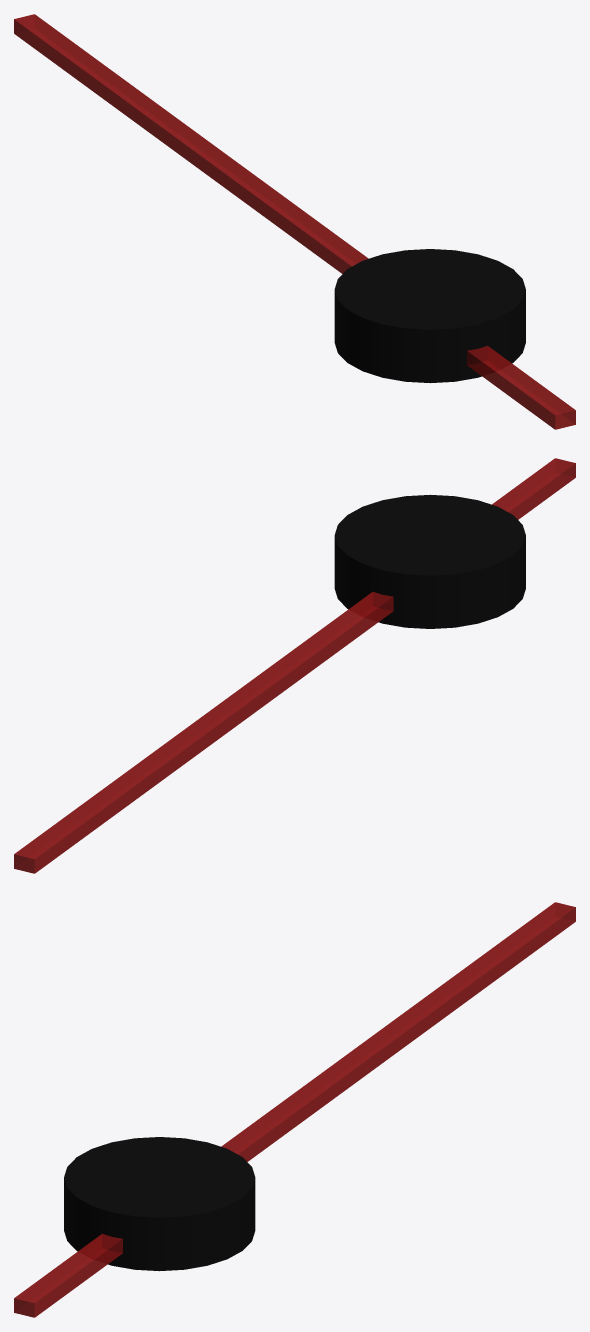
File: needle_10.dae
3 views of the same model, one above another, from view 1: azimuth 30°, elevation 25°; view 2: azimuth 150°, elevation 25°; view 3: azimuth 330°, elevation 25° (orthographic).
Visible parts, largest first — view 1: qt_gauge_needles_10; view 2: qt_gauge_needles_10; view 3: qt_gauge_needles_10.
Boxes of the visible parts, bbox=[...] form: qt_gauge_needles_10: bbox=[14, 14, 575, 429]; qt_gauge_needles_10: bbox=[14, 458, 575, 873]; qt_gauge_needles_10: bbox=[14, 902, 575, 1317].
Size of the model in its own units: 2.83 by 0.8709 by 16.
